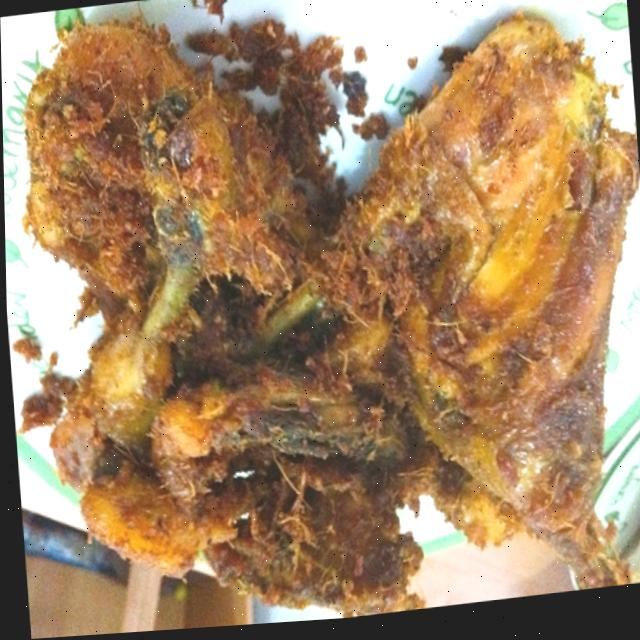鸡肉料理 含炸鸡: (15, 0, 640, 639)
